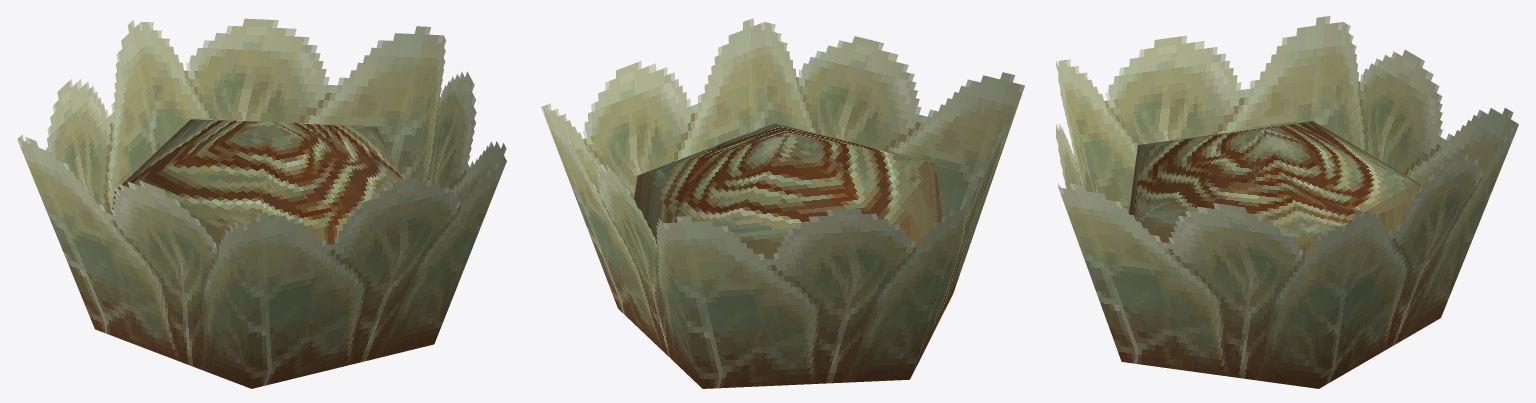
Rendered from westfallcabbage.glb.
3 views of the same model, side by side, from view 1: azimuth 30°, elevation 25°; view 2: azimuth 150°, elevation 25°; view 3: azimuth 270°, elevation 25° (orthographic).
Size of the model in its own units: 0.5783 by 0.2613 by 0.55.
2 materials, 2 textured.
